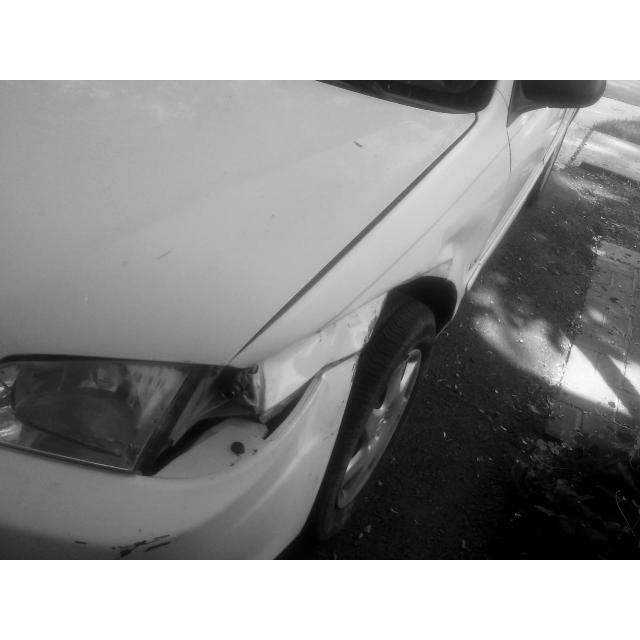Headlight-damage: (1, 361, 242, 489)
fender-dent: (230, 164, 524, 386)
front-bumper-dent: (0, 471, 332, 559)
